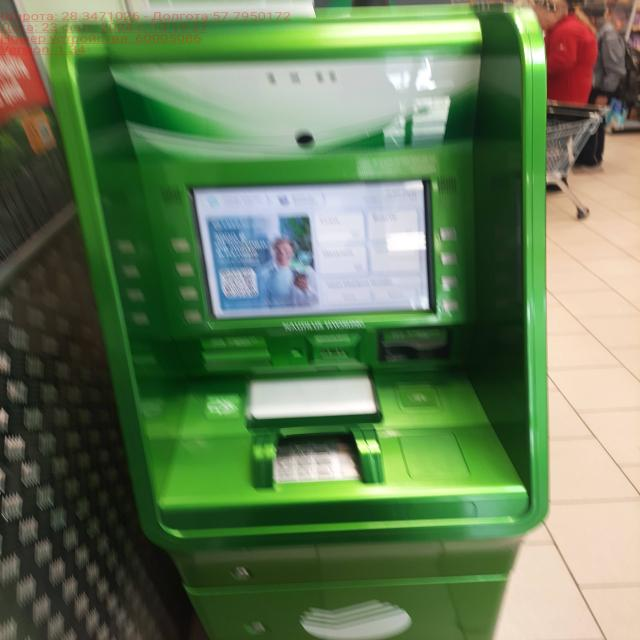bank: (56, 4, 554, 640)
